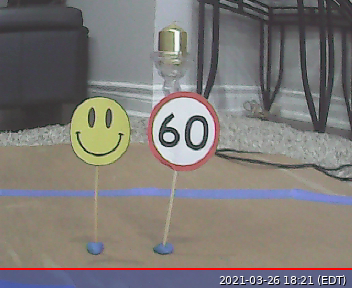Person: (70, 96, 131, 165)
Speed Limit 60: (146, 92, 220, 171)
